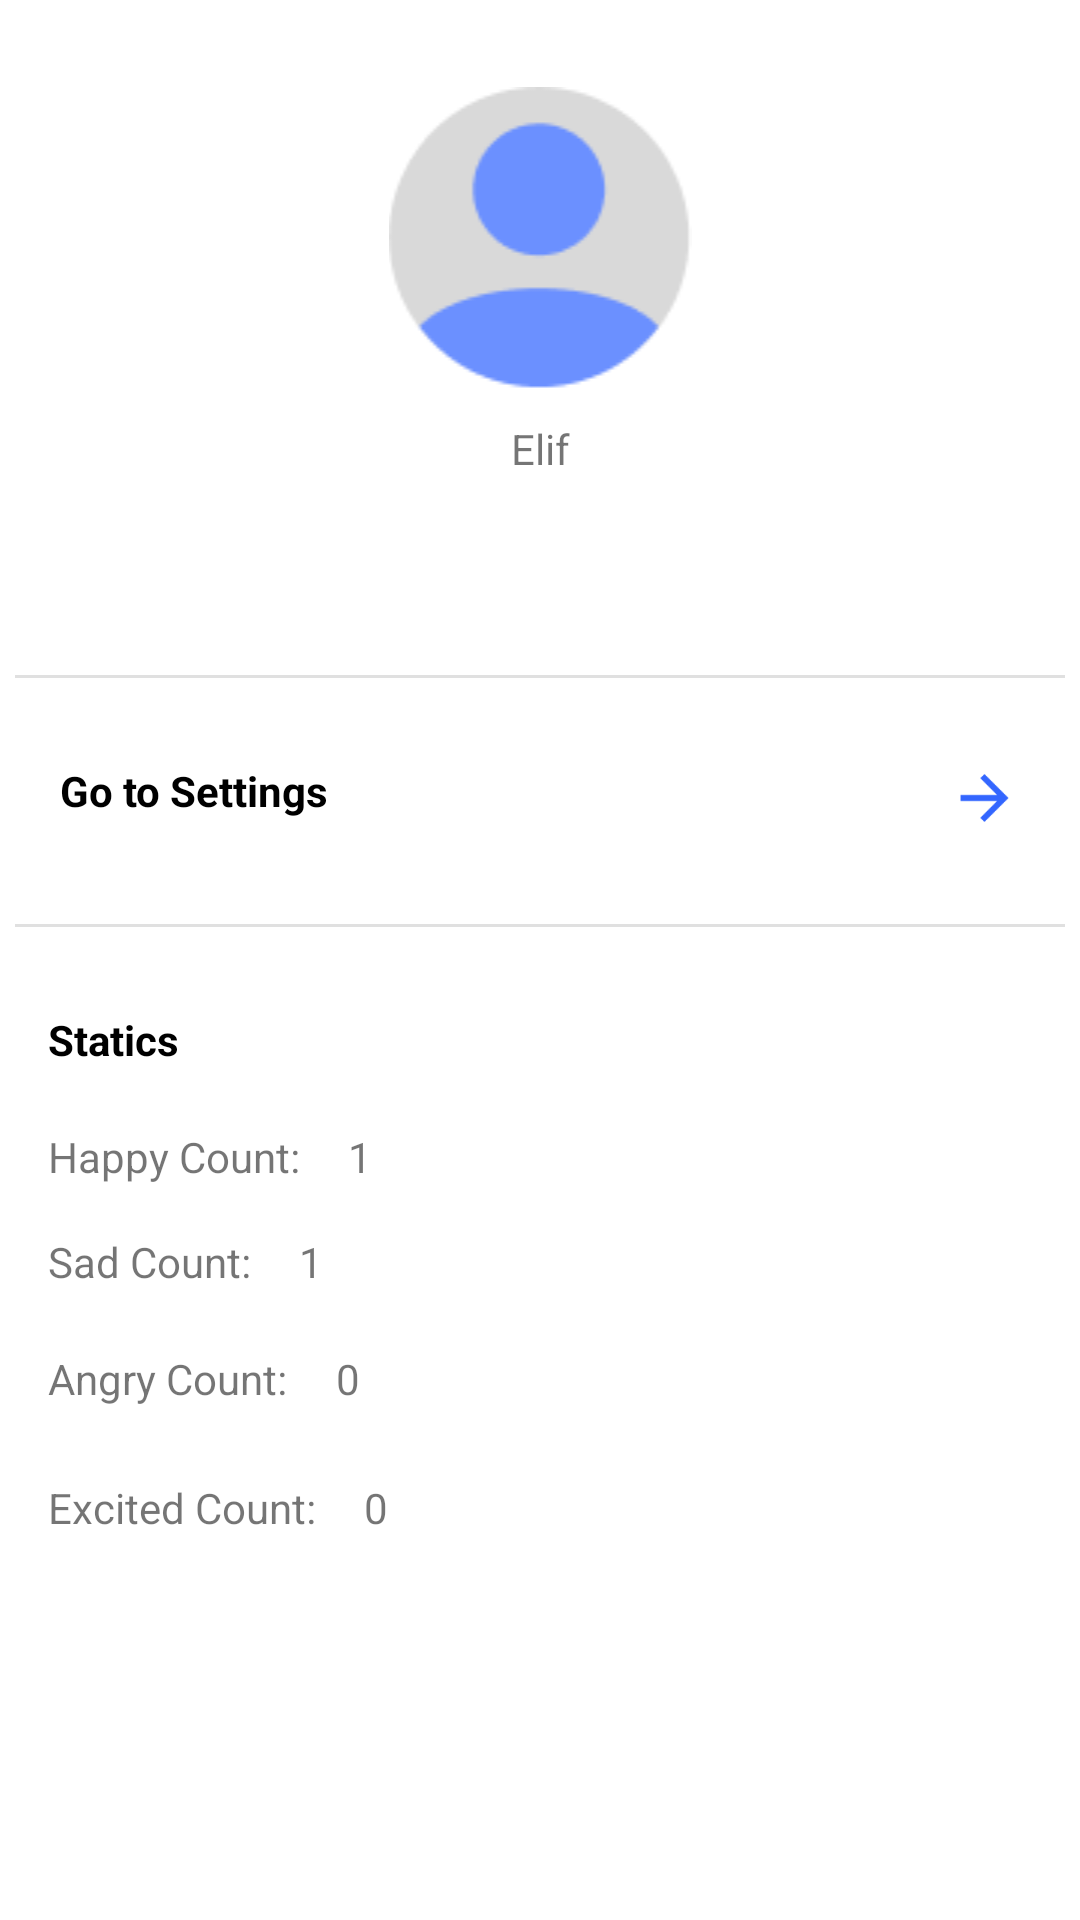

Icons on this 1080*1920 Android screen, each with the point to tap as [x,y]:
profile: [538,237]
